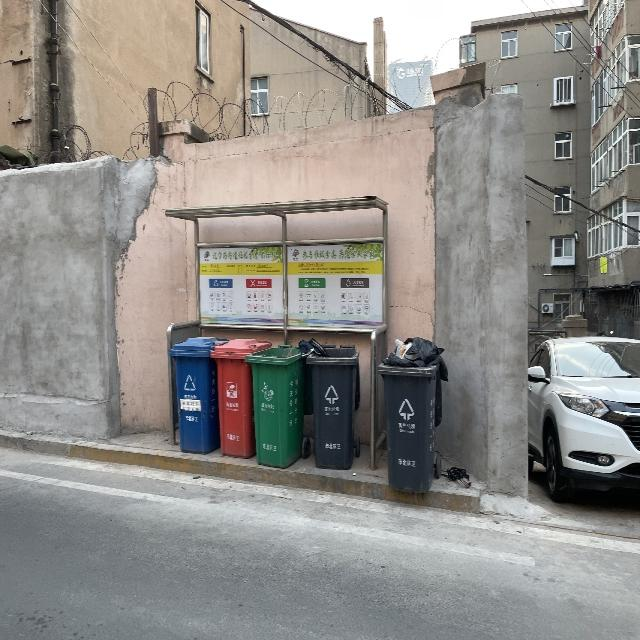garbage: (441, 465, 472, 488)
garbage_bin: (242, 342, 311, 467), (210, 337, 271, 458), (168, 337, 226, 454)
overflow: (377, 336, 448, 494), (298, 338, 359, 469)
